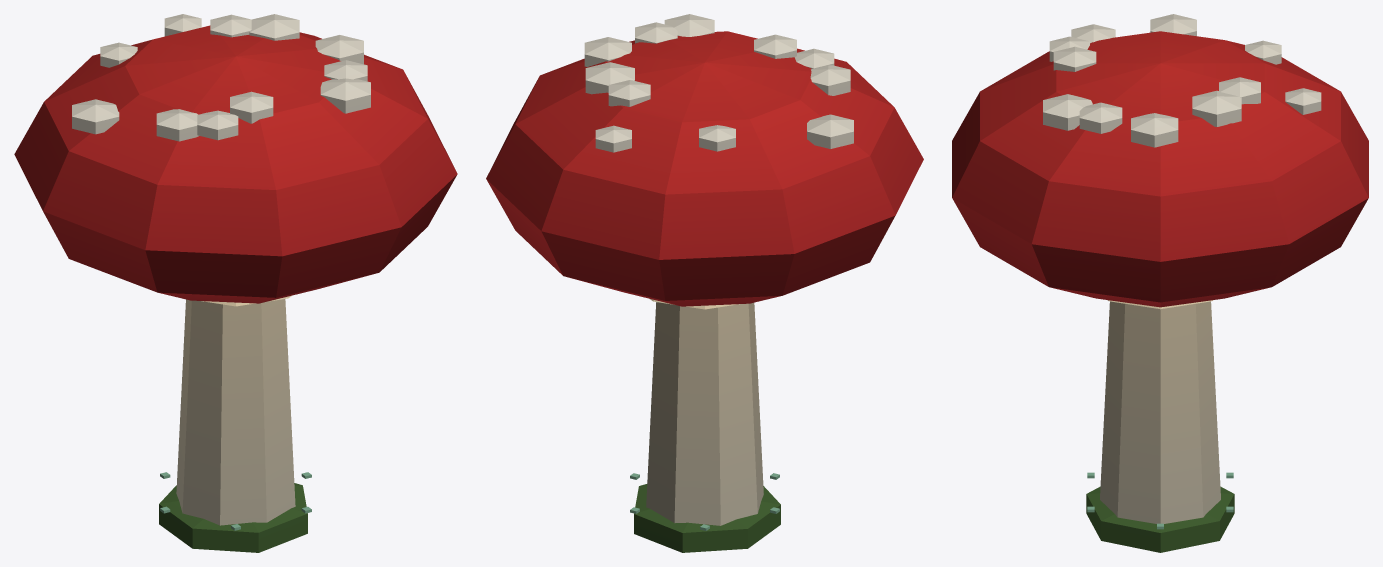
File: toadstool_giant.glb
The picture shows the model from 3 angles, left to right: view 1: azimuth 30°, elevation 25°; view 2: azimuth 150°, elevation 25°; view 3: azimuth 270°, elevation 25°; orthographic projection.
Parts seen in each view (by area): view 1: toadstool_giant; view 2: toadstool_giant; view 3: toadstool_giant.
Part boxes in pixels (box(x1,y1,x2,y2)): toadstool_giant: box(14, 14, 457, 552); toadstool_giant: box(486, 14, 923, 552); toadstool_giant: box(952, 14, 1368, 552).
Size of the model in its own units: 3 by 3.53 by 2.85.
